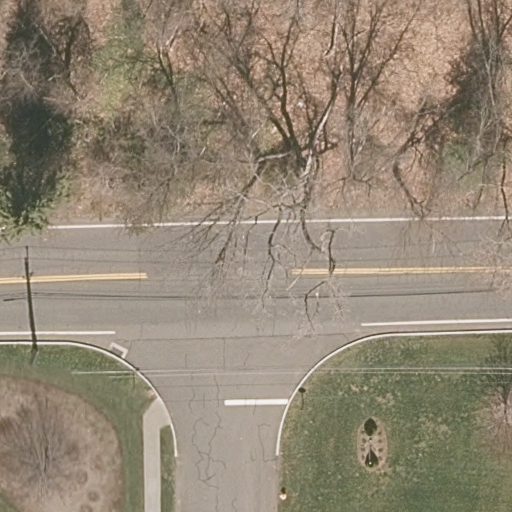DT: (26, 332, 43, 368)
